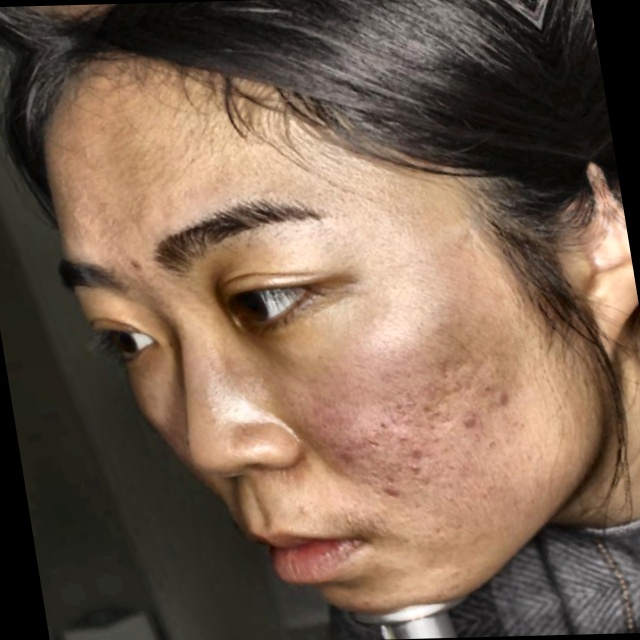comedone: (454, 405, 496, 438), (376, 477, 410, 511), (120, 247, 156, 277)
